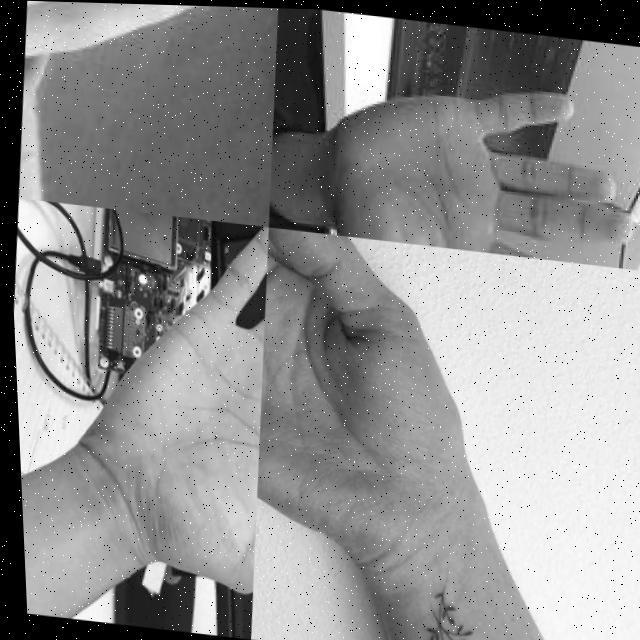no-gloves: (236, 223, 577, 598), (80, 207, 280, 594), (322, 61, 640, 264), (9, 1, 286, 224)
